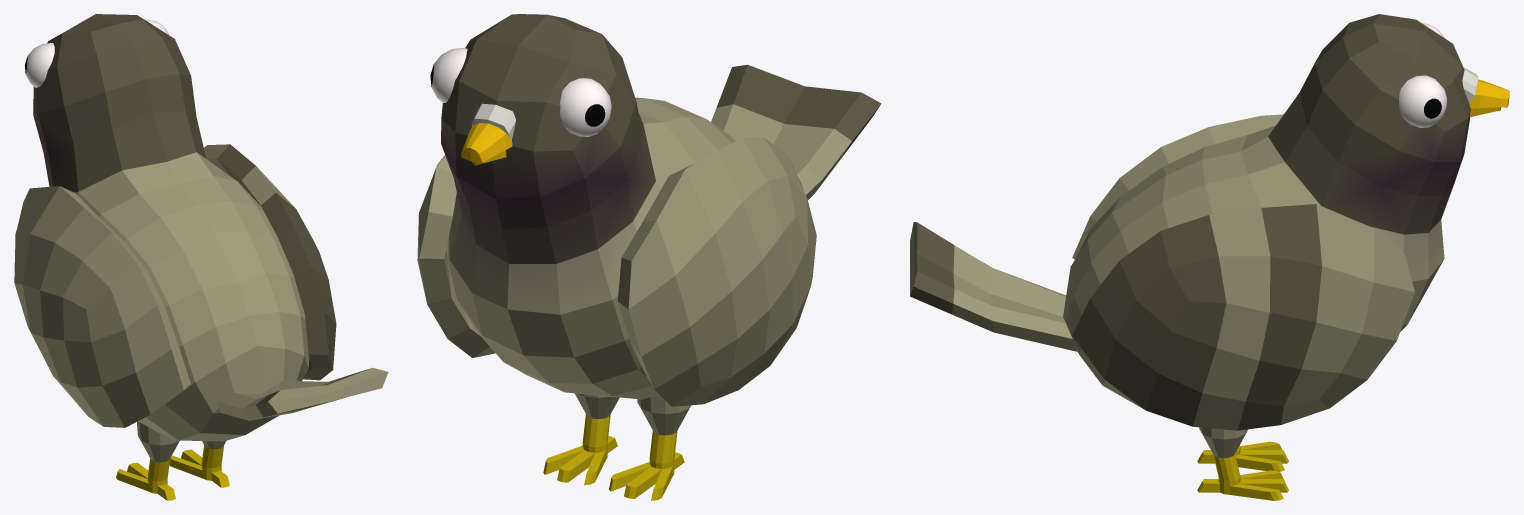
The model's file is pigeon.fbx.
3 views of the same model, side by side, from view 1: azimuth 30°, elevation 25°; view 2: azimuth 150°, elevation 25°; view 3: azimuth 270°, elevation 25° (orthographic). The views are drawn at different scales.
Parts seen in each view (by area): view 1: Body, Wing.L, Wing.R, Tail, Leg.L, Leg.R, Eye.L; view 2: Body, Wing.L, Tail, Wing.R, Leg.L, Leg.R, Eye.L, Beack, Eye.R, Beack.Back; view 3: Wing.R, Body, Tail, Wing.L, Leg.R, Eye.R, Leg.L, Beack.
Boxes of the visible parts, left/top/right/bottom form: Body: left=33, top=14, right=309, bottom=441; Wing.L: left=14, top=186, right=190, bottom=427; Wing.R: left=204, top=144, right=336, bottom=380; Tail: left=217, top=367, right=388, bottom=420; Leg.L: left=116, top=421, right=179, bottom=500; Leg.R: left=169, top=440, right=229, bottom=487; Eye.L: left=24, top=43, right=54, bottom=87; Body: left=441, top=14, right=735, bottom=399; Wing.L: left=617, top=137, right=816, bottom=406; Tail: left=711, top=64, right=881, bottom=200; Wing.R: left=417, top=155, right=495, bottom=357; Leg.L: left=609, top=394, right=690, bottom=500; Leg.R: left=543, top=393, right=619, bottom=485; Eye.L: left=559, top=78, right=611, bottom=136; Beack: left=461, top=123, right=512, bottom=165; Eye.R: left=430, top=48, right=467, bottom=103; Beack.Back: left=471, top=103, right=515, bottom=138; Wing.R: left=1072, top=204, right=1414, bottom=430; Body: left=1063, top=14, right=1470, bottom=408; Tail: left=910, top=222, right=1077, bottom=351; Wing.L: left=1072, top=114, right=1283, bottom=259; Leg.R: left=1197, top=427, right=1288, bottom=500; Eye.R: left=1399, top=75, right=1447, bottom=127; Leg.L: left=1197, top=441, right=1288, bottom=471; Beack: left=1469, top=79, right=1509, bottom=117.
Size of the model in its own units: 66.83 by 103 by 124.
